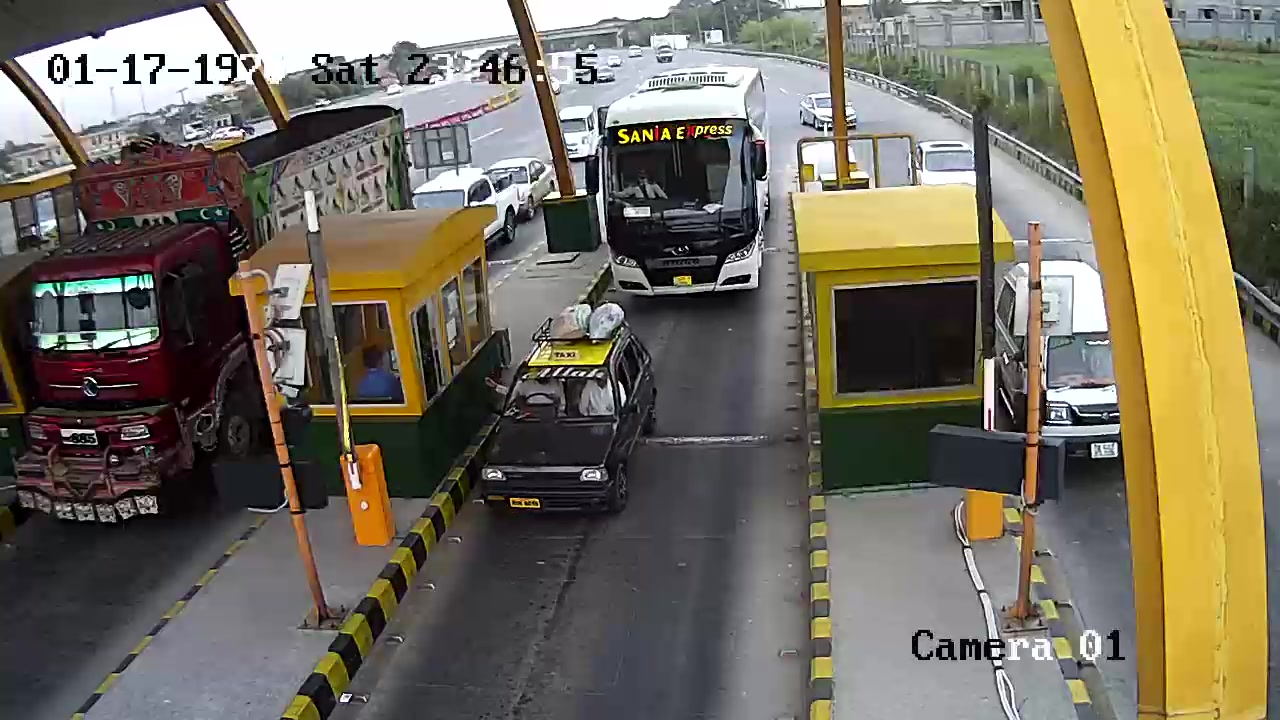F4: (599, 60, 766, 306)
